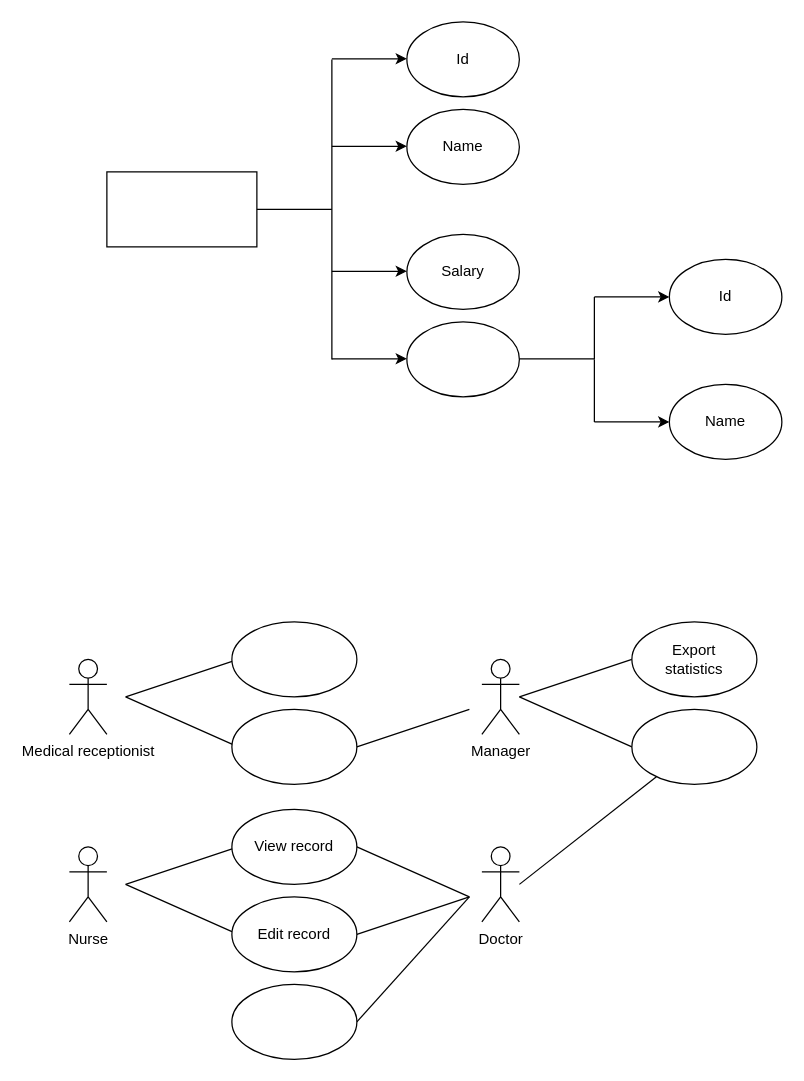
Image size: 804x1081. Some labels were removed from this diagram. Each missing label, with the box of its shape:
Department: (406, 321, 519, 397)
Employee: (106, 171, 257, 247)
Generate report: (631, 708, 757, 784)
Register Patient: (231, 621, 357, 697)
Setup consultation: (231, 983, 357, 1059)
View Personal Info: (231, 708, 357, 784)
